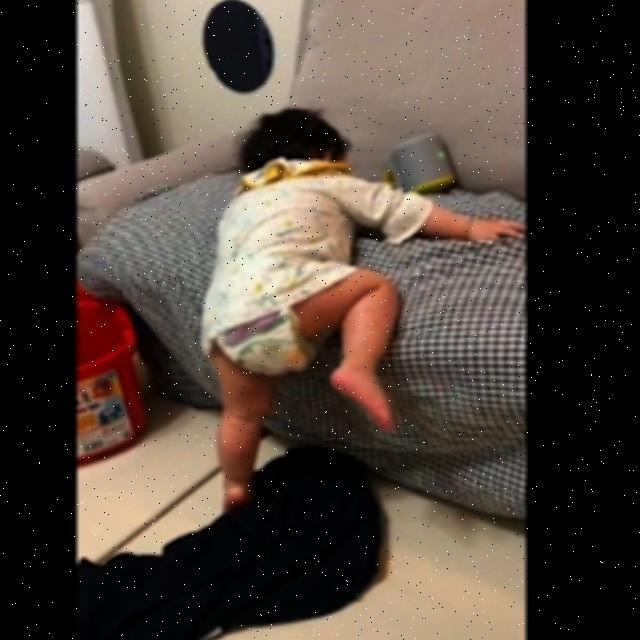child: (205, 105, 524, 506)
